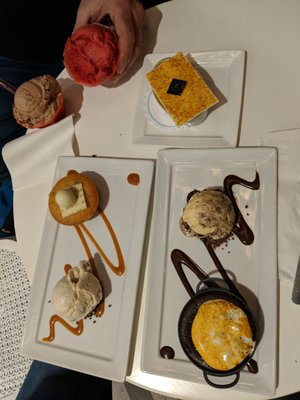soup: (146, 52, 220, 128)
